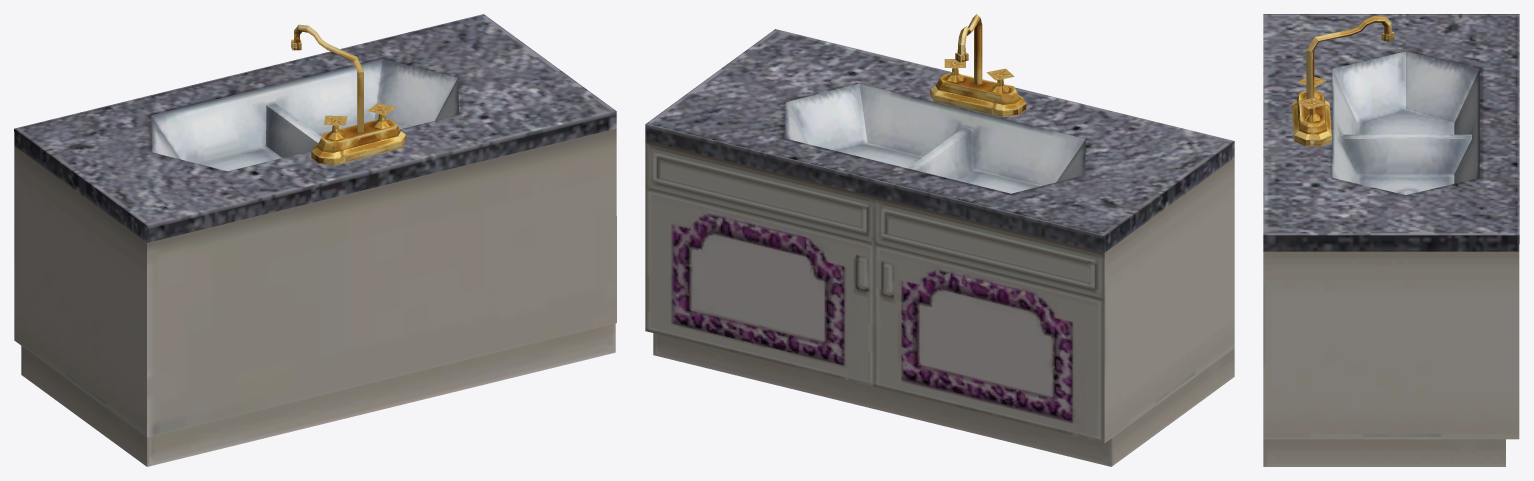
File: furni_0200089_02.FBX
3 views of the same model, side by side, from view 1: azimuth 30°, elevation 25°; view 2: azimuth 150°, elevation 25°; view 3: azimuth 270°, elevation 25° (orthographic). The views are drawn at different scales.
Parts seen in each view (by area): view 1: furni_0200089_02; view 2: furni_0200089_02; view 3: furni_0200089_02.
Boxes of the visible parts, x1,y1,x2,y2 form: furni_0200089_02: (14, 14, 616, 466); furni_0200089_02: (645, 14, 1234, 466); furni_0200089_02: (1263, 14, 1519, 466).
Bounding box in the file's own units: 163 × 115 × 80.
1 material, 1 textured.
